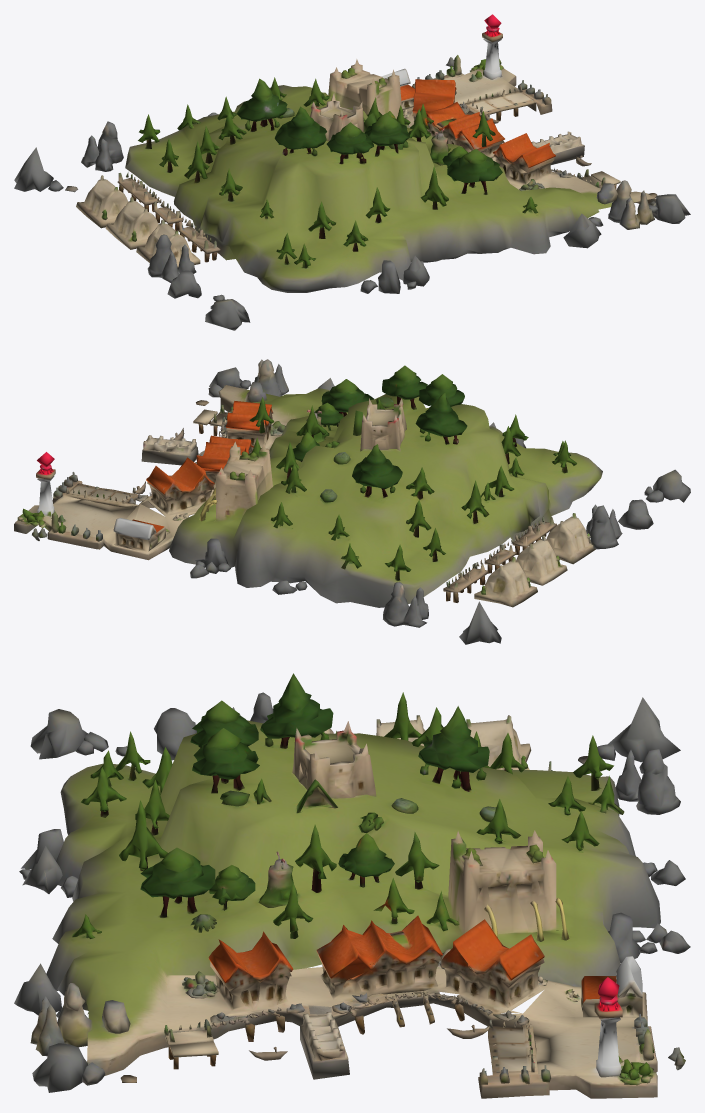
The model's file is isle_05_p1.glb.
3 renders of one model, top to bottom at view 1: azimuth 30°, elevation 25°; view 2: azimuth 150°, elevation 25°; view 3: azimuth 270°, elevation 25°, orthographic. The views are drawn at different scales.
Parts seen in each view (by area): view 1: tripo_node_5a3c34e9-a08d-49be-8fae-04cc3b9ea45b; view 2: tripo_node_5a3c34e9-a08d-49be-8fae-04cc3b9ea45b; view 3: tripo_node_5a3c34e9-a08d-49be-8fae-04cc3b9ea45b.
Boxes of the visible parts, left/top/right/bottom form: tripo_node_5a3c34e9-a08d-49be-8fae-04cc3b9ea45b: left=14, top=14, right=690, bottom=330; tripo_node_5a3c34e9-a08d-49be-8fae-04cc3b9ea45b: left=14, top=359, right=690, bottom=644; tripo_node_5a3c34e9-a08d-49be-8fae-04cc3b9ea45b: left=14, top=673, right=690, bottom=1098.
Bounding box in the file's own units: 0.998 × 0.252 × 0.7949.
1 material, 1 textured.
